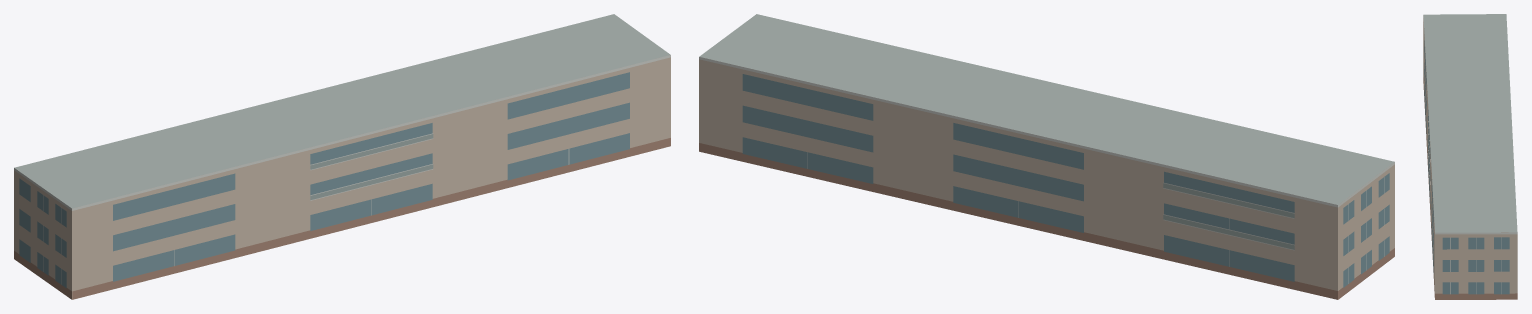
The model's file is survey-upis-33019860.glb.
3 views of the same model, side by side, from view 1: azimuth 30°, elevation 25°; view 2: azimuth 150°, elevation 25°; view 3: azimuth 270°, elevation 25° (orthographic). The views are drawn at different scales.
Parts seen in each view (by area): view 1: survey-upis-33019860.tmp; view 2: survey-upis-33019860.tmp; view 3: survey-upis-33019860.tmp.
Boxes of the visible parts, x1,y1,x2,y2 form: survey-upis-33019860.tmp: (14, 14, 670, 299); survey-upis-33019860.tmp: (699, 14, 1394, 299); survey-upis-33019860.tmp: (1423, 14, 1517, 299).
Size of the model in its own units: 63.77 by 9.15 by 11.6.
